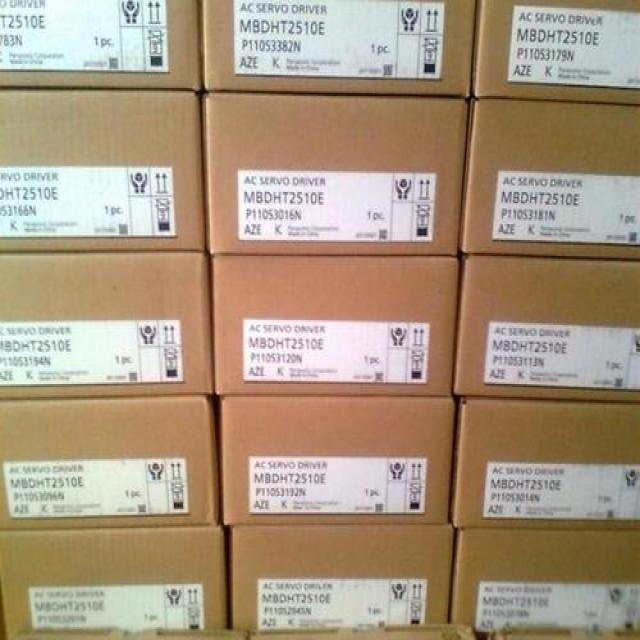box: (204, 93, 468, 255), (213, 254, 459, 398), (1, 90, 206, 252), (0, 253, 213, 398), (221, 395, 455, 524), (0, 396, 221, 529), (459, 99, 639, 259), (453, 254, 639, 402), (203, 0, 476, 97), (0, 525, 227, 638), (452, 396, 639, 530), (231, 524, 454, 628), (452, 531, 639, 636), (0, 0, 202, 89), (473, 0, 639, 104)
